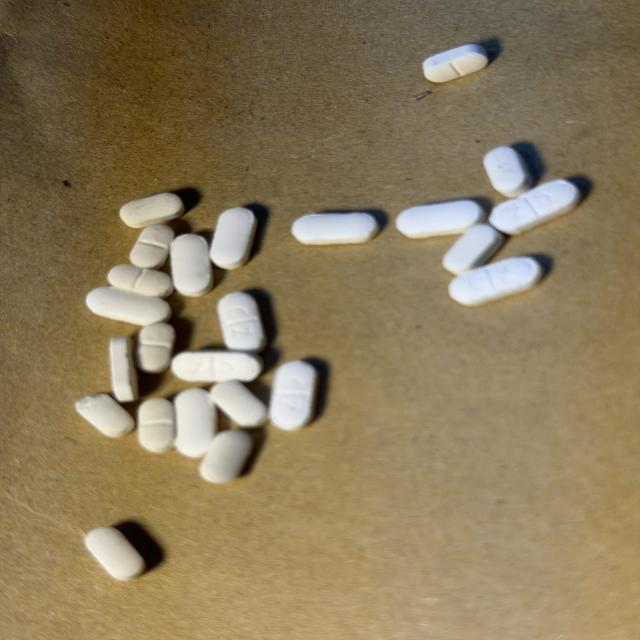pill: (490, 180, 580, 234), (449, 257, 542, 306), (396, 200, 485, 238), (269, 361, 317, 430), (86, 287, 171, 325), (85, 527, 145, 580), (443, 224, 504, 275), (171, 350, 263, 382), (210, 208, 257, 269), (174, 389, 216, 457), (218, 292, 266, 351), (292, 212, 379, 244), (200, 430, 252, 482), (171, 234, 213, 296), (75, 394, 134, 437), (211, 381, 267, 426), (483, 147, 533, 197), (423, 45, 488, 82), (120, 193, 184, 228), (108, 264, 173, 297), (138, 398, 175, 452), (137, 323, 176, 373), (130, 225, 174, 268), (109, 337, 138, 402)
